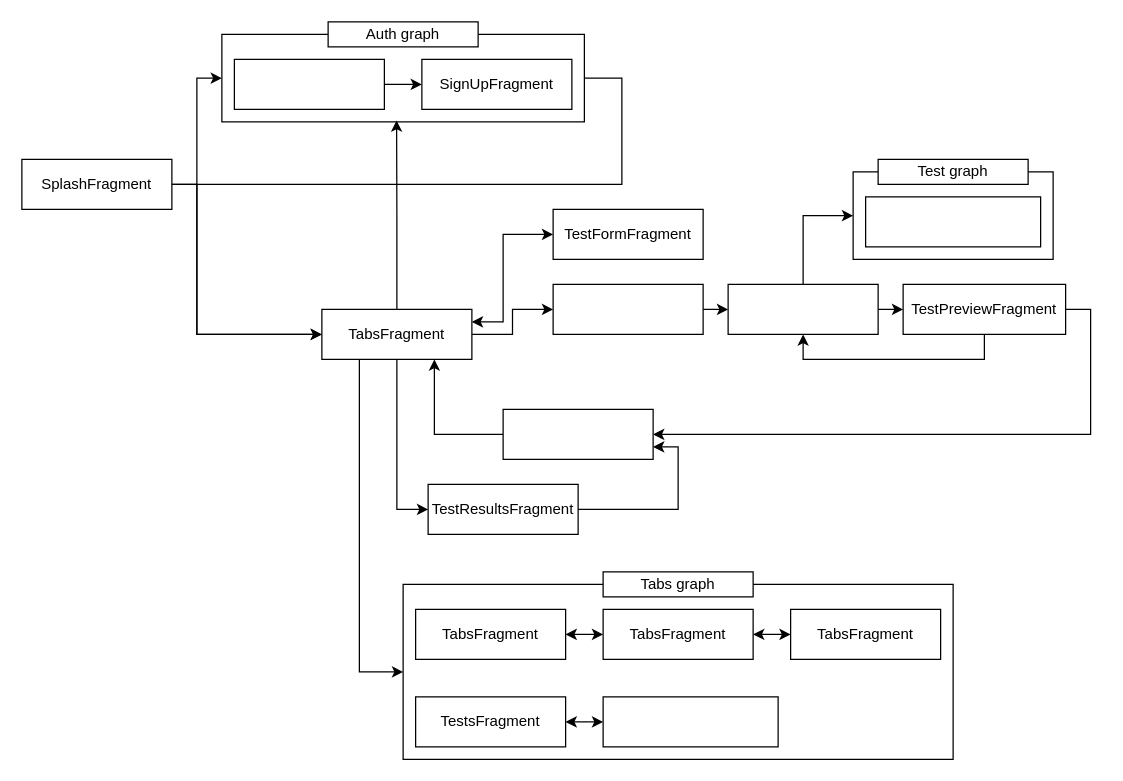
This 1123x781 diagram has some shape labels left out. Here are the shapes that lost their labels. From the top down, the box of each, then its label:
(233, 58, 384, 109): SignInFragment
(864, 196, 1041, 247): QuestionPassFragment
(552, 283, 703, 334): TestDetailFragment
(727, 283, 878, 334): TestPassFragment
(502, 408, 653, 459): TestResultFragment
(602, 696, 778, 747): TestModalBottomSheet
